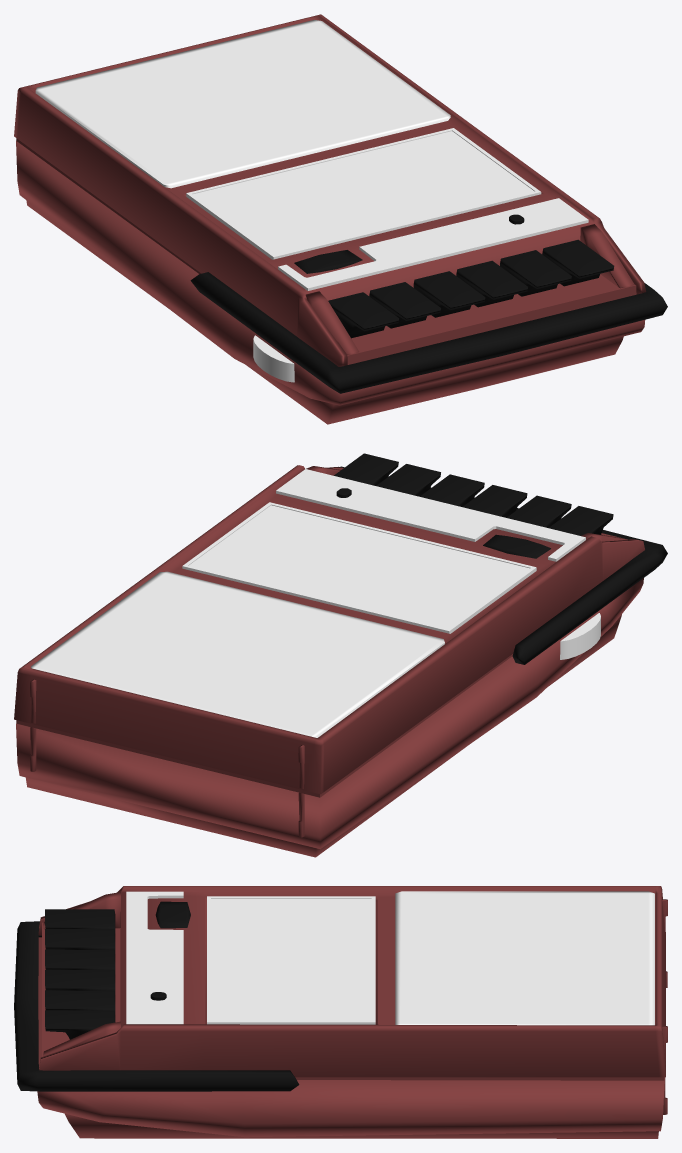
3 renders of one model, top to bottom at view 1: azimuth 30°, elevation 25°; view 2: azimuth 150°, elevation 25°; view 3: azimuth 270°, elevation 25°, orthographic. The views are drawn at different scales.
Parts seen in each view (by area): view 1: RelieveArribaSA_Low, CarcasaA_Low, TapaCasseteraB_Low, CarcasaB_Low, Manija_Low, Unia_Low, RelieveAbajoA_Low, CarcasaC_Low, TapaCasseteraA_Low, BotonA_Low, BotonC_Low, BotonE_Low (+7 smaller); view 2: CarcasaA_Low, RelieveArribaSA_Low, CarcasaB_Low, TapaCasseteraB_Low, RelieveAbajoA_Low, Manija_Low, CarcasaC_Low, TapaCasseteraA_Low, Unia_Low, BotonC_Low, BotonE_Low, BotonD_Low (+5 smaller); view 3: CarcasaA_Low, RelieveArribaSA_Low, CarcasaB_Low, TapaCasseteraB_Low, Manija_Low, RelieveAbajoA_Low, CarcasaC_Low, Unia_Low, TapaCasseteraA_Low, BotonF_Low, BotonB_Low, BotonD_Low (+6 smaller).
Boxes of the visible parts, left/top/right/bottom form: RelieveArribaSA_Low: left=35, top=19, right=450, bottom=188; CarcasaA_Low: left=14, top=14, right=646, bottom=366; TapaCasseteraB_Low: left=193, top=131, right=534, bottom=254; CarcasaB_Low: left=16, top=141, right=645, bottom=405; Manija_Low: left=190, top=272, right=667, bottom=393; Unia_Low: left=16, top=138, right=636, bottom=364; RelieveAbajoA_Low: left=278, top=198, right=588, bottom=290; CarcasaC_Low: left=26, top=200, right=623, bottom=424; TapaCasseteraA_Low: left=186, top=128, right=541, bottom=259; BotonA_Low: left=328, top=292, right=398, bottom=338; BotonC_Low: left=413, top=271, right=485, bottom=317; BotonE_Low: left=500, top=250, right=571, bottom=296; CarcasaA_Low: left=14, top=465, right=644, bottom=794; RelieveArribaSA_Low: left=31, top=571, right=444, bottom=737; CarcasaB_Low: left=16, top=578, right=643, bottom=849; TapaCasseteraB_Low: left=189, top=505, right=529, bottom=628; RelieveAbajoA_Low: left=276, top=469, right=585, bottom=561; Manija_Low: left=340, top=466, right=667, bottom=664; CarcasaC_Low: left=25, top=614, right=621, bottom=857; TapaCasseteraA_Low: left=182, top=502, right=536, bottom=633; Unia_Low: left=16, top=533, right=627, bottom=797; BotonC_Low: left=462, top=485, right=527, bottom=517; BotonE_Low: left=376, top=464, right=440, bottom=496; BotonD_Low: left=420, top=474, right=484, bottom=506; CarcasaA_Low: left=38, top=886, right=665, bottom=1077; RelieveArribaSA_Low: left=395, top=891, right=654, bottom=1025; CarcasaB_Low: left=37, top=937, right=664, bottom=1137; TapaCasseteraB_Low: left=211, top=899, right=371, bottom=1020; Manija_Low: left=14, top=921, right=299, bottom=1091; RelieveAbajoA_Low: left=126, top=891, right=183, bottom=1024; CarcasaC_Low: left=65, top=1113, right=658, bottom=1138; Unia_Low: left=42, top=922, right=664, bottom=1080; TapaCasseteraA_Low: left=207, top=896, right=375, bottom=1024; BotonF_Low: left=45, top=1010, right=115, bottom=1039; BotonB_Low: left=45, top=929, right=115, bottom=953; BotonD_Low: left=45, top=970, right=115, bottom=994.
Bounding box in the file's own units: 11.54 × 4.12 × 20.32.
